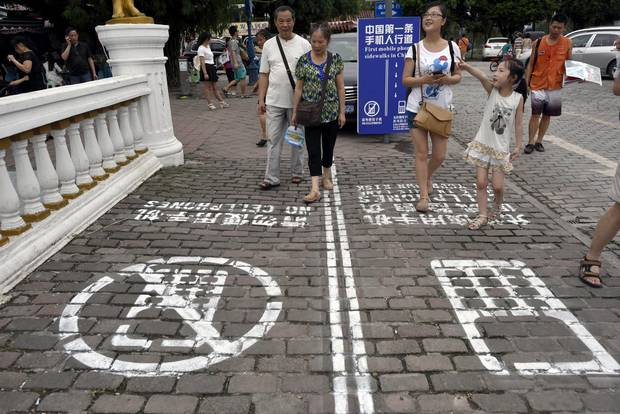pedestrian: (455, 46, 529, 230), (401, 2, 460, 211), (252, 5, 310, 188), (290, 23, 346, 204), (523, 12, 581, 157), (193, 30, 231, 109), (224, 21, 252, 101)
